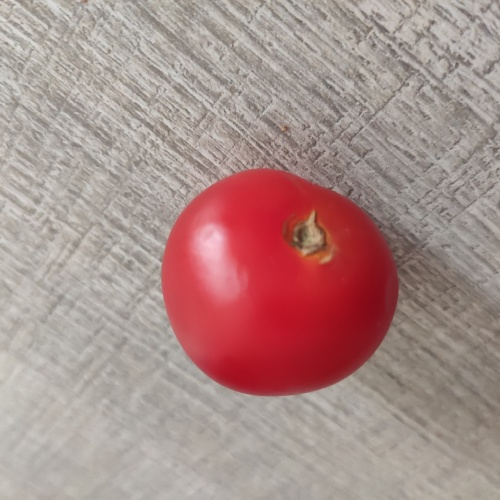pomodoro: (160, 167, 399, 403)
